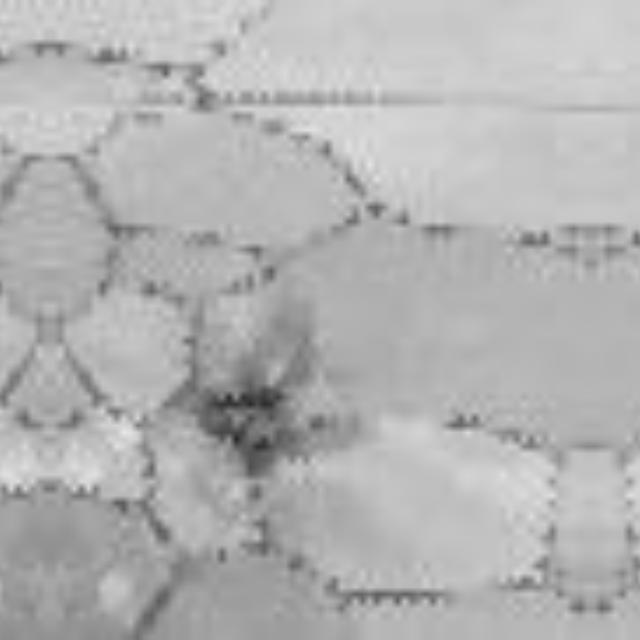good_void: (192, 315, 334, 495)
